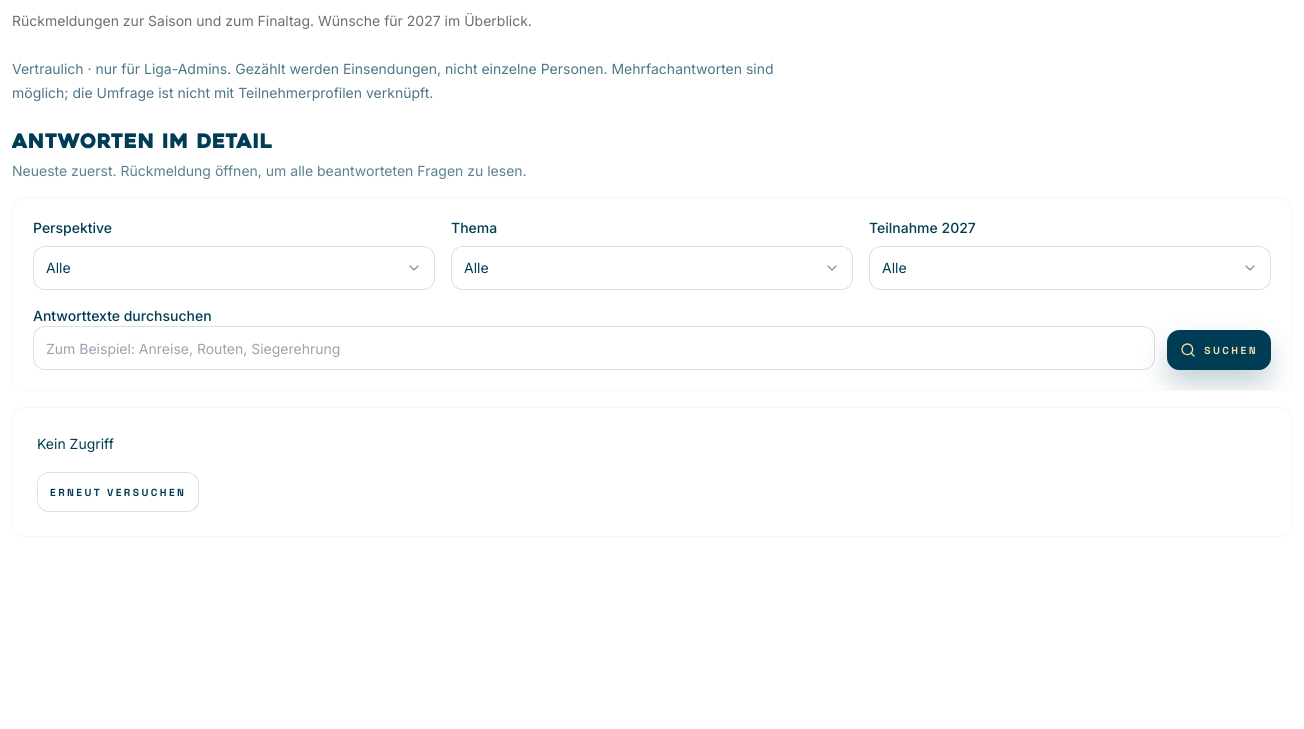
it: season feedback dashboard › recovers from failure and handles empty results
Expected: the message reads "Kein Zugriff", x1=37 y1=435 x2=114 y2=452
Click the button "Erneut versuchen" at (118, 492), box x1=37 y1=472 x2=199 y2=512
(page scrolled)
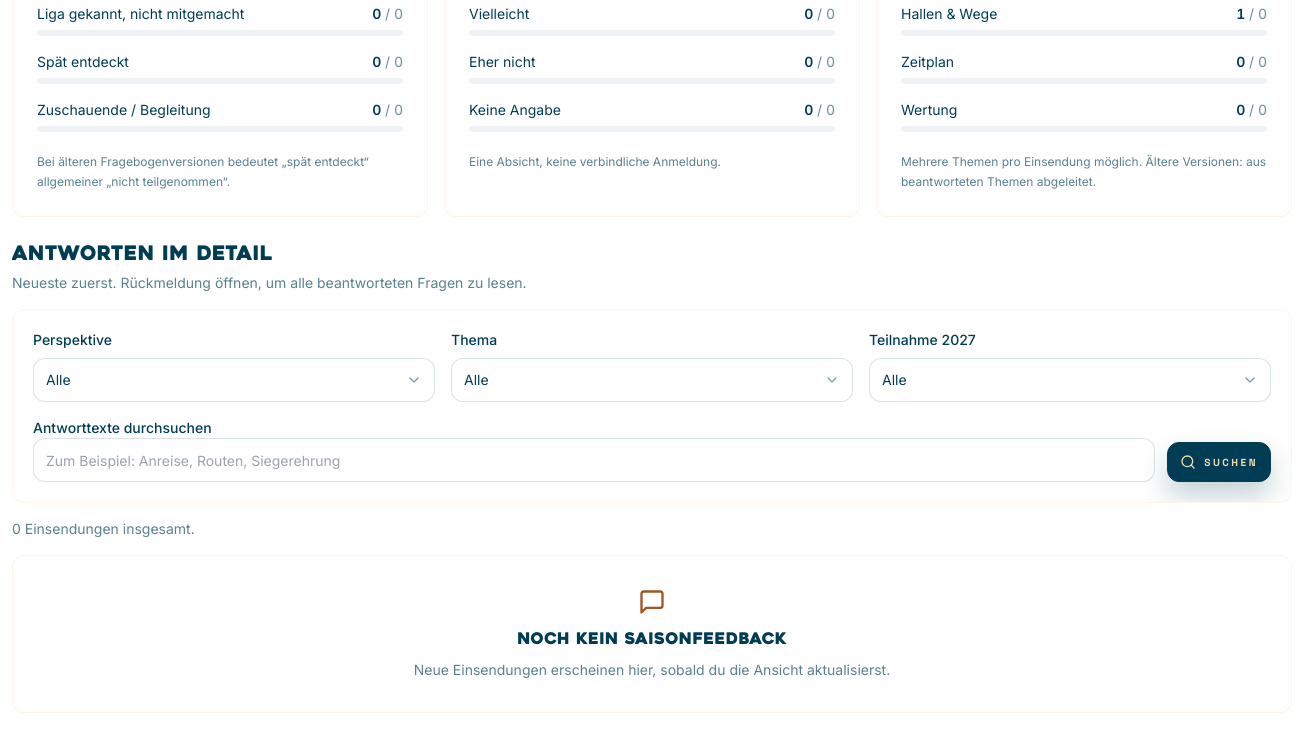
Now the heading "Noch kein Saisonfeedback" is shown, box x1=517 y1=632 x2=787 y2=648
